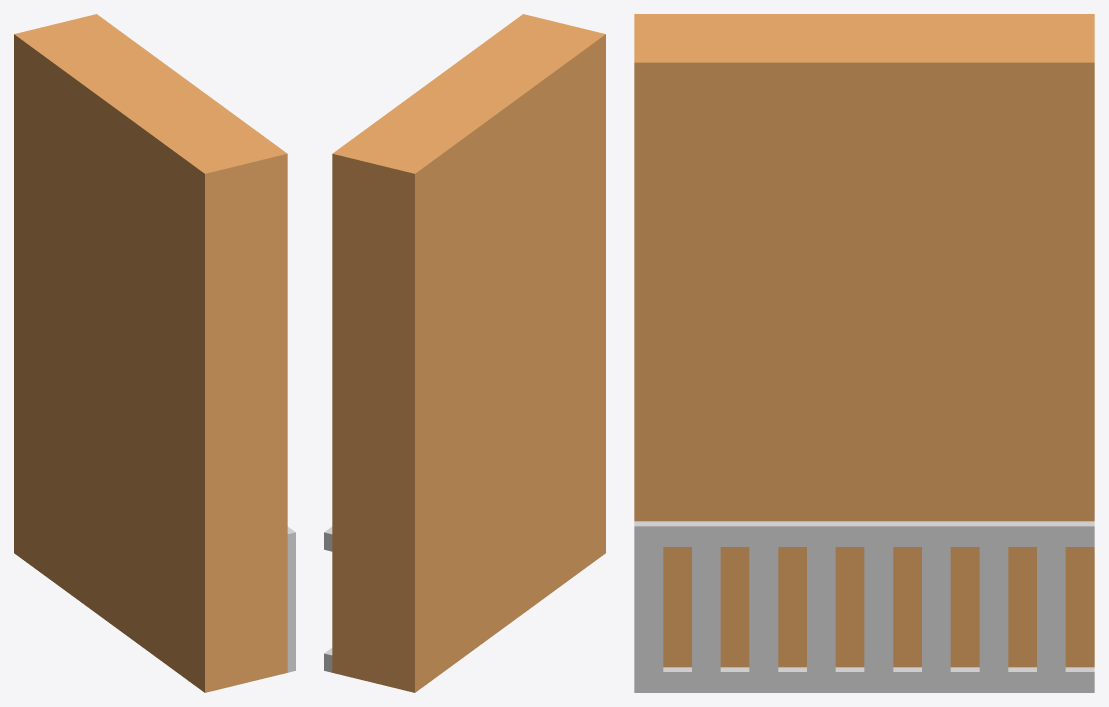
Rendered from sushi_wall3x2_b_2.fbx.
3 views of the same model, side by side, from view 1: azimuth 30°, elevation 25°; view 2: azimuth 150°, elevation 25°; view 3: azimuth 270°, elevation 25° (orthographic). The views are drawn at different scales.
Visible parts, largest first — view 1: Cube; view 2: Cube; view 3: Cube.
Part boxes in pixels (left/top/right/bottom): Cube: left=14, top=14, right=295, bottom=692; Cube: left=324, top=14, right=605, bottom=692; Cube: left=634, top=14, right=1094, bottom=692.
Size of the model in its own units: 0.55 by 3 by 2.
